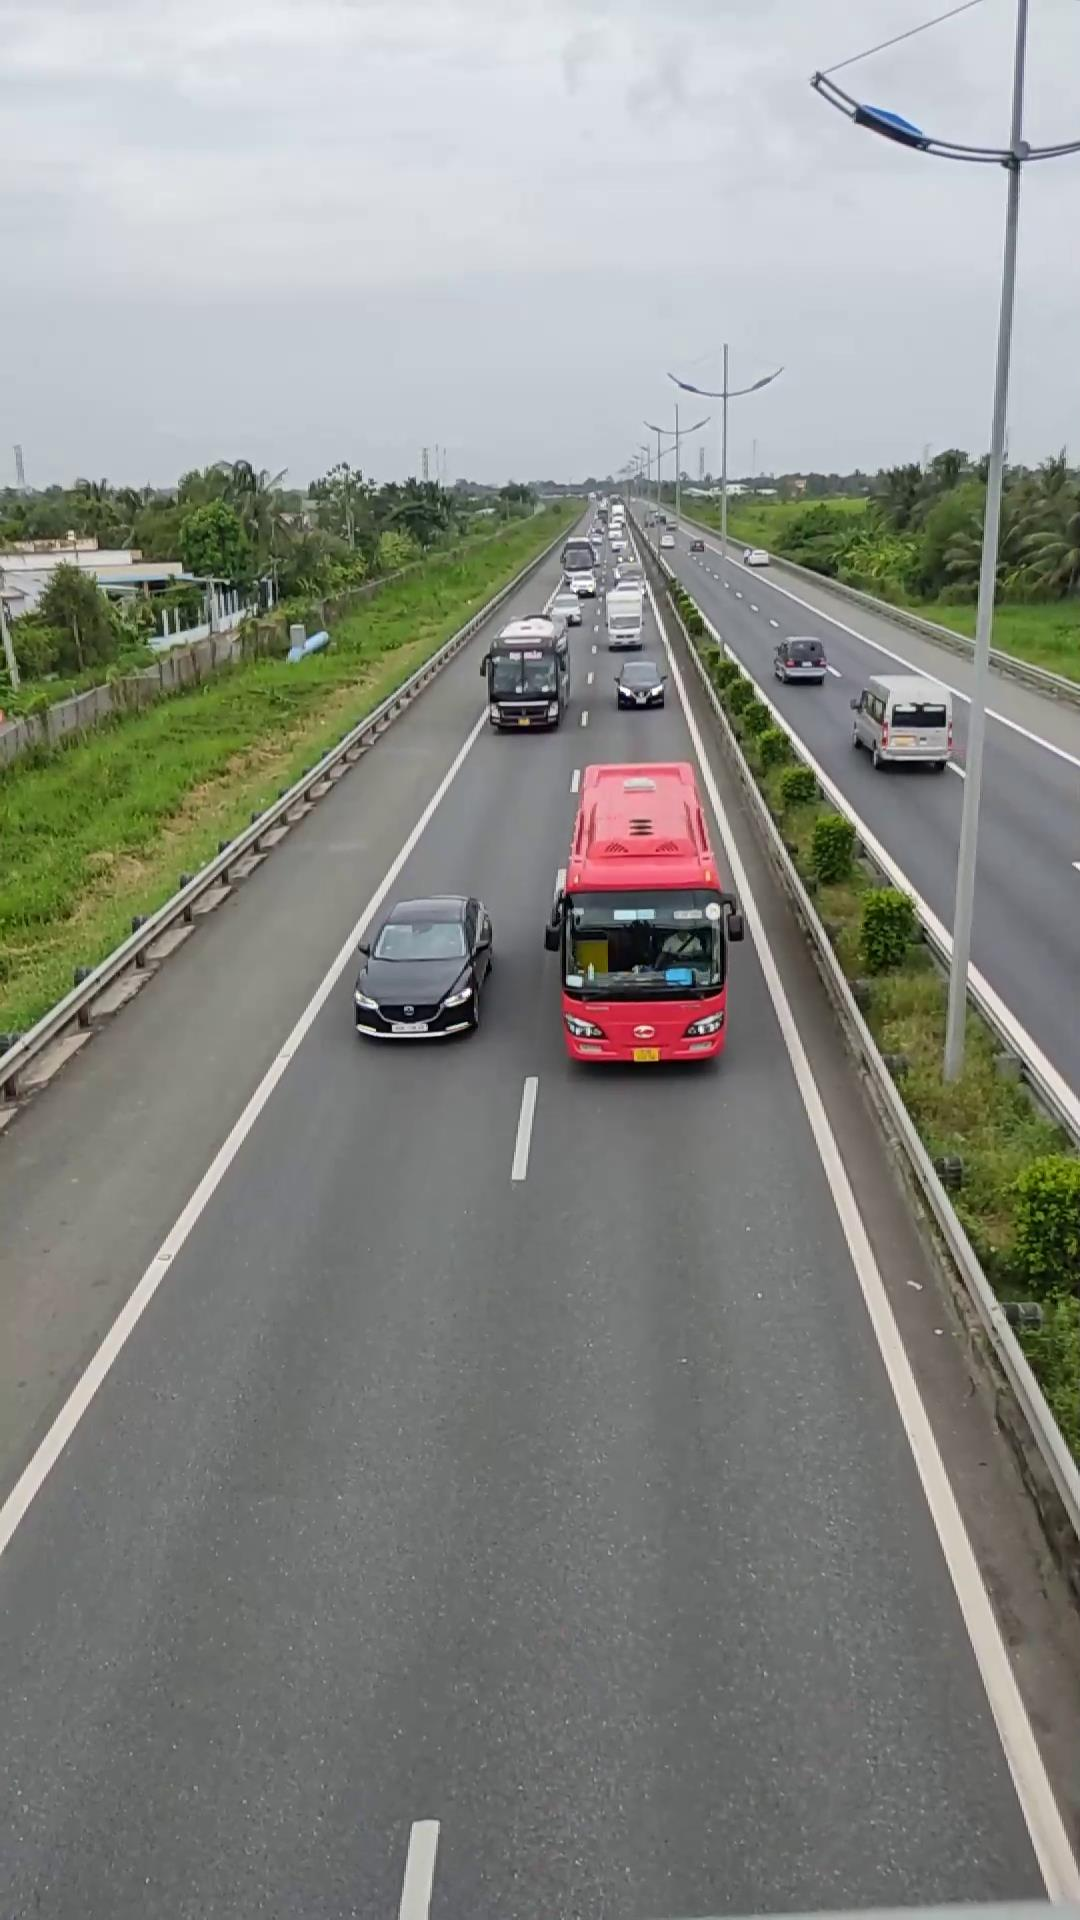bus: (546, 760, 737, 1069), (484, 617, 568, 729)
car: (351, 894, 495, 1042), (851, 669, 957, 771)
